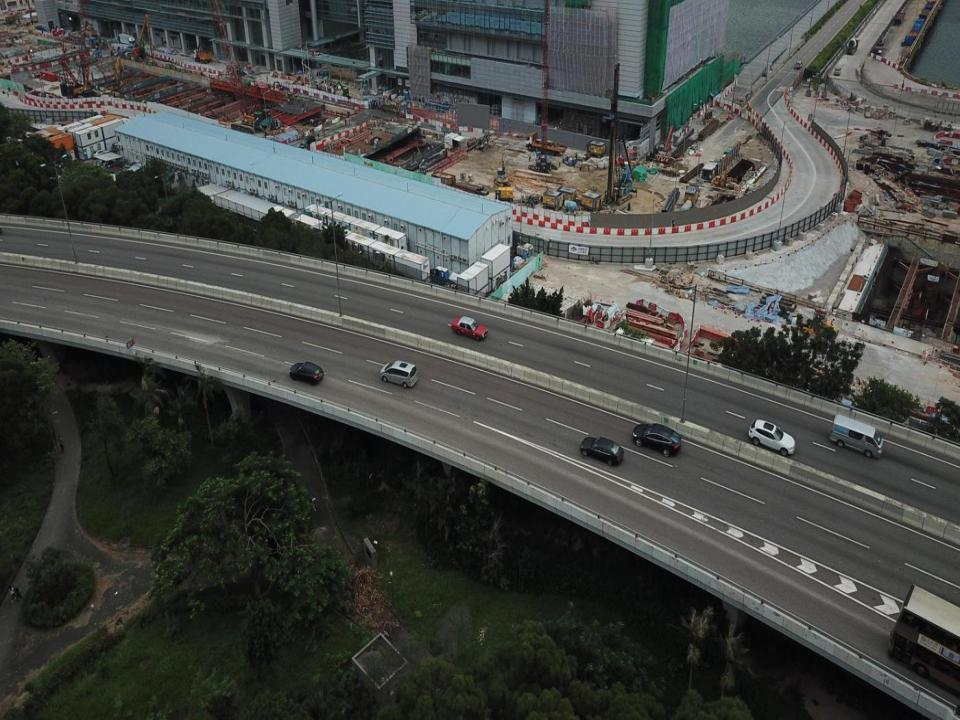bus: (886, 580, 960, 695)
car: (746, 416, 798, 458), (632, 418, 682, 458), (580, 431, 624, 469), (378, 352, 418, 389), (450, 310, 492, 340), (289, 358, 323, 387)
van: (827, 413, 886, 459)
